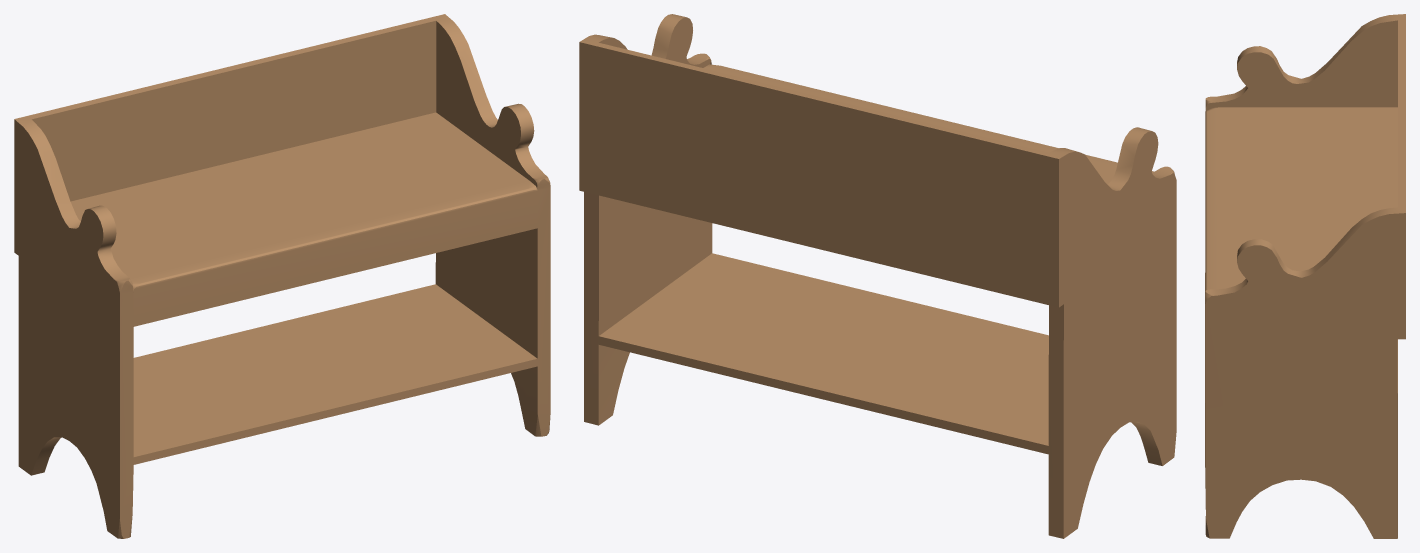
File: polyhaven-bench.glb
3 renders of one model, left to right at view 1: azimuth 30°, elevation 25°; view 2: azimuth 150°, elevation 25°; view 3: azimuth 270°, elevation 25°, orthographic. The views are drawn at different scales.
Visible parts, largest first — view 1: painted_wooden_bench; view 2: painted_wooden_bench; view 3: painted_wooden_bench.
Part boxes in pixels (x1,y1,x2,y2): painted_wooden_bench: (14, 14, 550, 538); painted_wooden_bench: (579, 14, 1176, 538); painted_wooden_bench: (1205, 14, 1405, 538).
Size of the model in its own units: 1.16 by 0.8893 by 0.4965.
